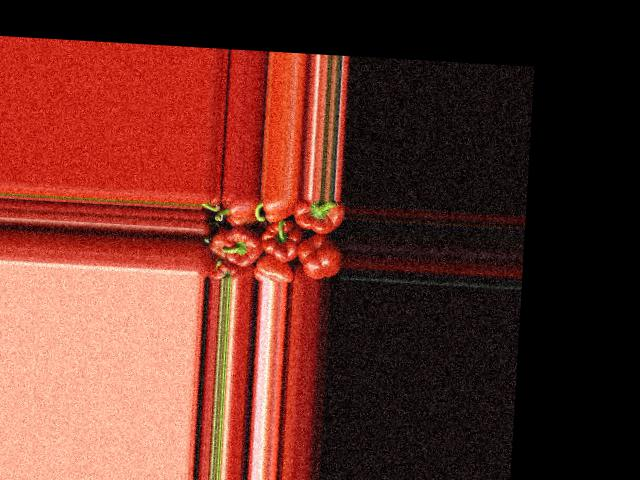bell_pepper: (254, 257, 295, 282)
